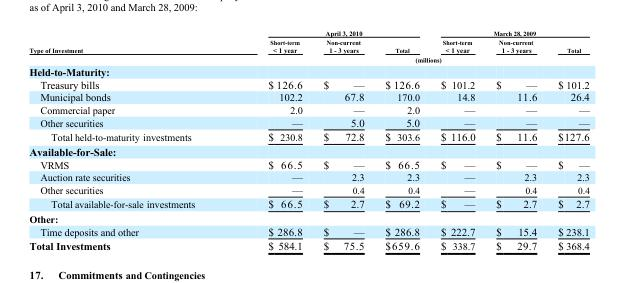table: (28, 28, 588, 251)
table column: (28, 28, 230, 251), (230, 28, 312, 251), (312, 28, 374, 251), (485, 28, 546, 251), (429, 28, 485, 251), (374, 28, 429, 251), (546, 28, 588, 251)
table column header: (28, 28, 588, 64)
table projected row header: (28, 143, 588, 157), (28, 64, 588, 77), (28, 211, 588, 224)
table row: (28, 37, 588, 54), (28, 196, 588, 211), (28, 115, 588, 129), (28, 129, 588, 143), (28, 143, 588, 157), (28, 182, 588, 196), (28, 224, 588, 238), (28, 64, 588, 77), (28, 77, 588, 90), (28, 102, 588, 115), (28, 157, 588, 170), (28, 211, 588, 224), (28, 238, 588, 251), (28, 90, 588, 102), (28, 170, 588, 182), (28, 54, 588, 64), (28, 28, 588, 37)
table spanning cell: (28, 28, 230, 64), (230, 54, 588, 64), (230, 28, 429, 37), (429, 28, 588, 37)
